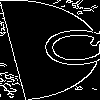Q: (25, 25, 100, 71)
